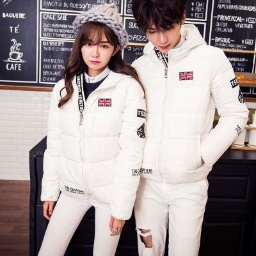face: (70, 19, 128, 76), (130, 1, 190, 52)
